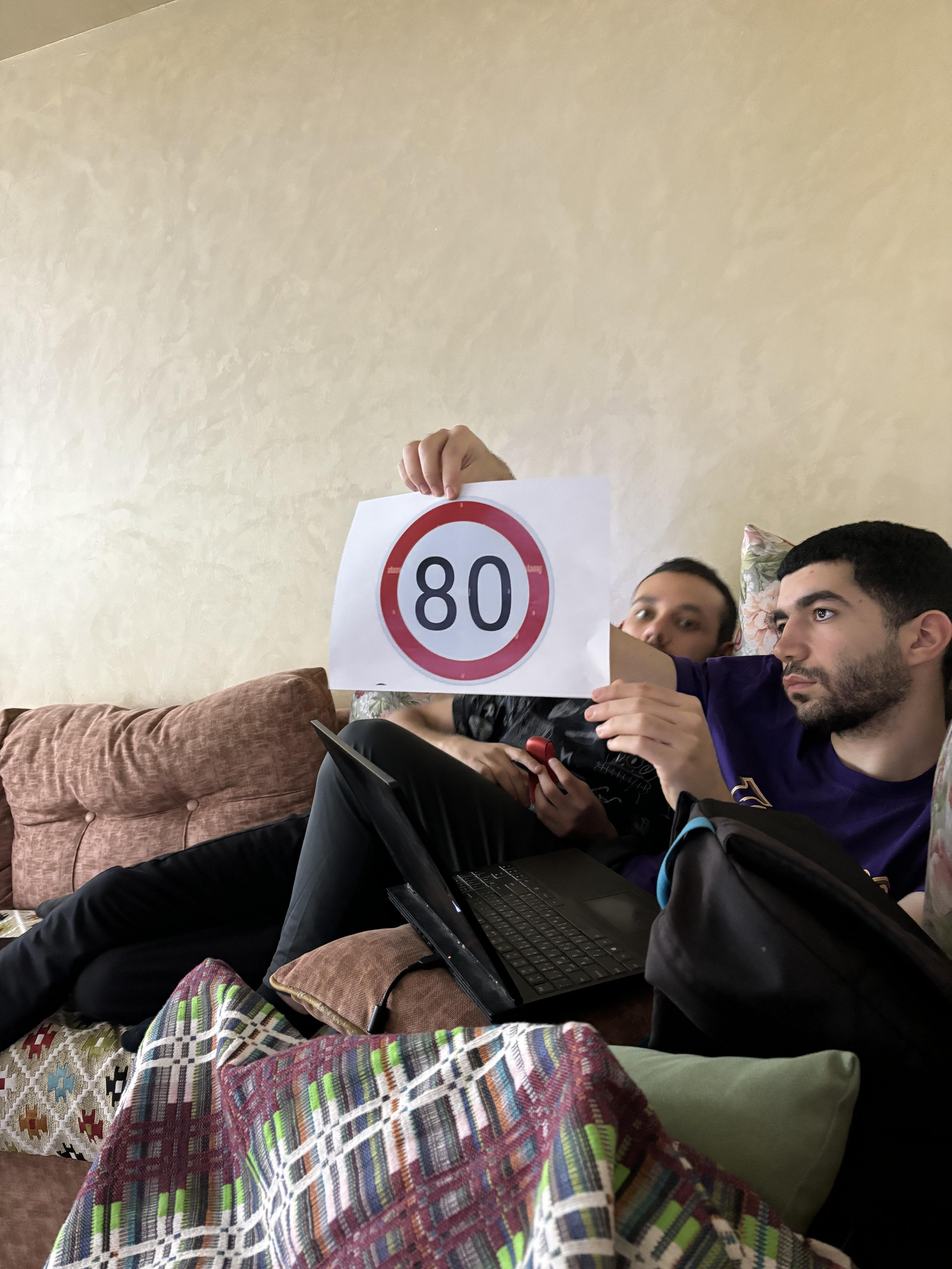80-Speed: (374, 496, 555, 685)
